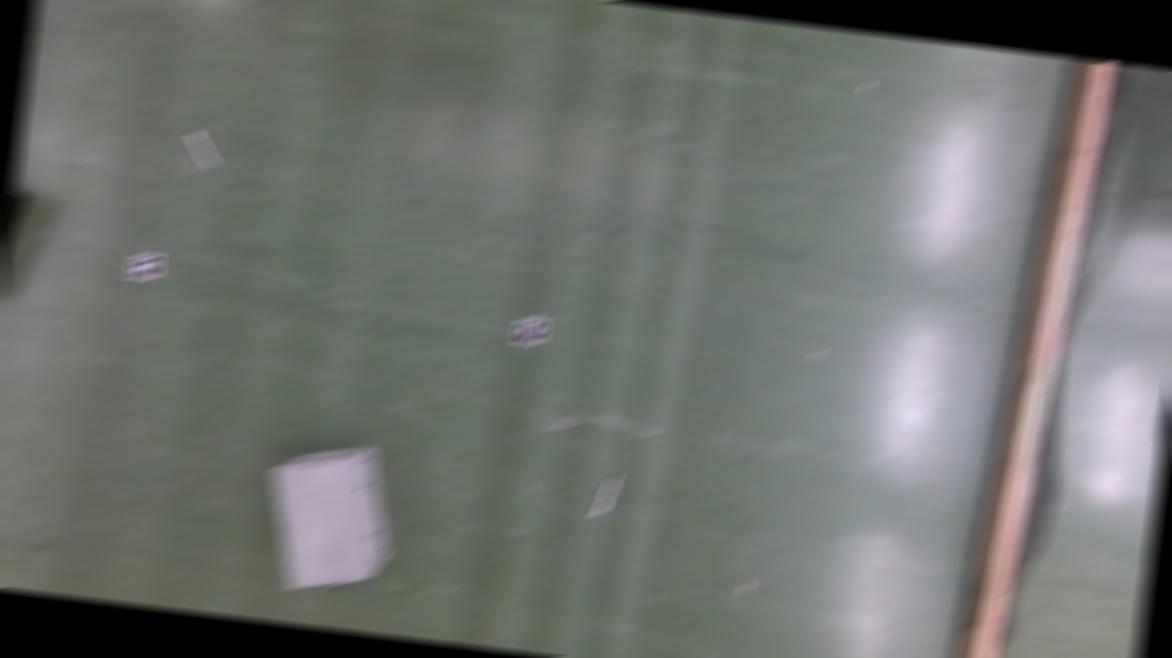probes: (186, 128, 218, 166), (594, 474, 618, 514)
rako: (257, 432, 402, 596), (0, 169, 32, 305)
